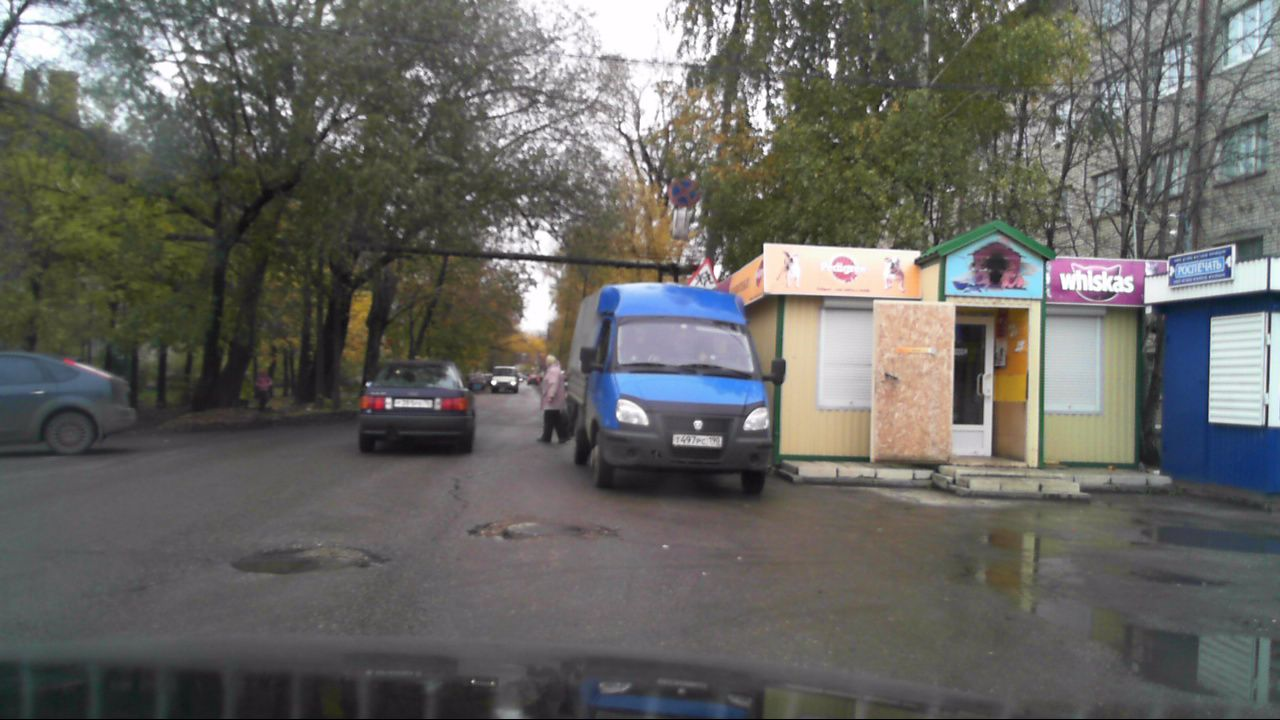No Parking: (668, 176, 699, 208)
